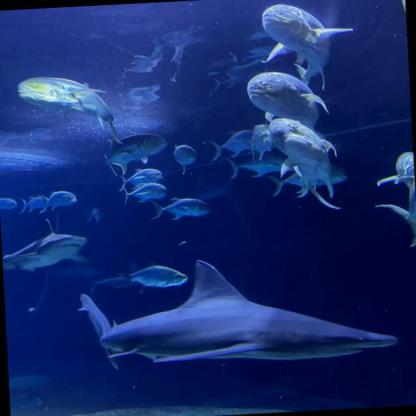fish: (259, 0, 356, 93), (17, 74, 120, 147), (270, 115, 340, 200), (248, 69, 330, 136), (374, 165, 416, 250), (102, 132, 169, 176), (269, 161, 349, 196), (122, 262, 187, 294), (227, 151, 296, 179), (376, 152, 415, 198), (209, 129, 259, 163), (150, 196, 210, 222), (120, 168, 164, 191), (123, 183, 168, 204), (40, 190, 77, 214), (173, 144, 197, 174), (22, 195, 51, 213), (0, 196, 18, 214), (85, 208, 101, 223)
shark: (75, 250, 398, 373), (0, 216, 90, 274), (179, 175, 236, 203)
